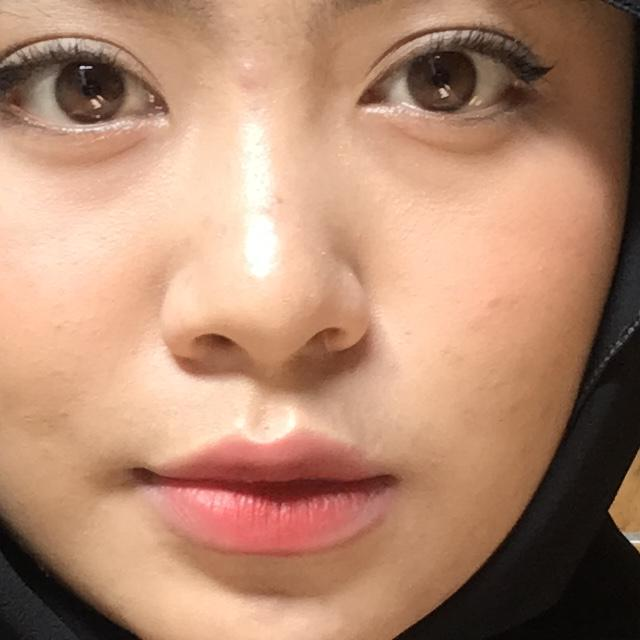ibu: (0, 146, 240, 640)
